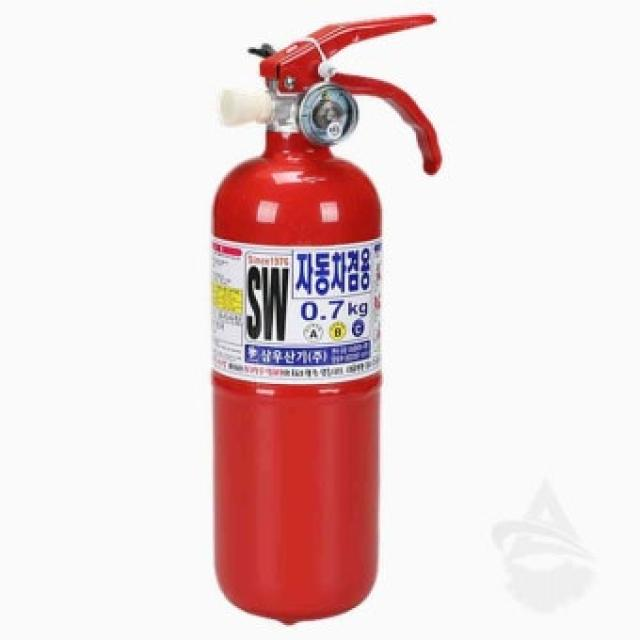pressure gauge: (299, 83, 356, 145)
